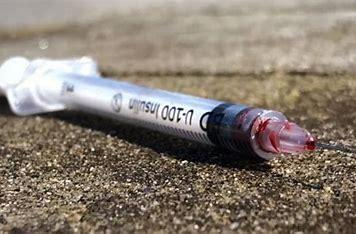Syringe: (3, 49, 354, 168)
